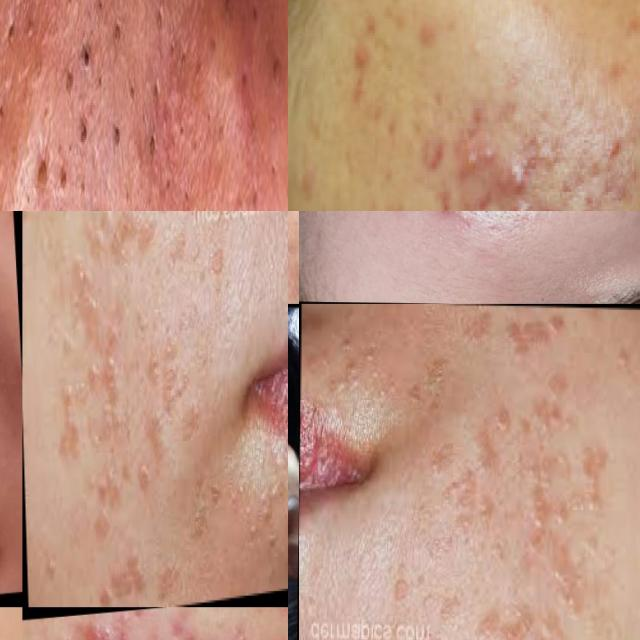comedone: (34, 140, 54, 202), (81, 38, 96, 85), (78, 116, 89, 154), (87, 201, 105, 211)
flat_wart: (65, 211, 231, 326), (53, 335, 153, 518), (385, 552, 588, 640), (491, 394, 611, 542), (131, 315, 204, 456), (424, 434, 512, 548), (250, 453, 288, 591), (323, 304, 369, 416), (503, 308, 565, 366), (98, 540, 148, 607)
papule: (74, 626, 117, 640), (431, 211, 486, 220)
